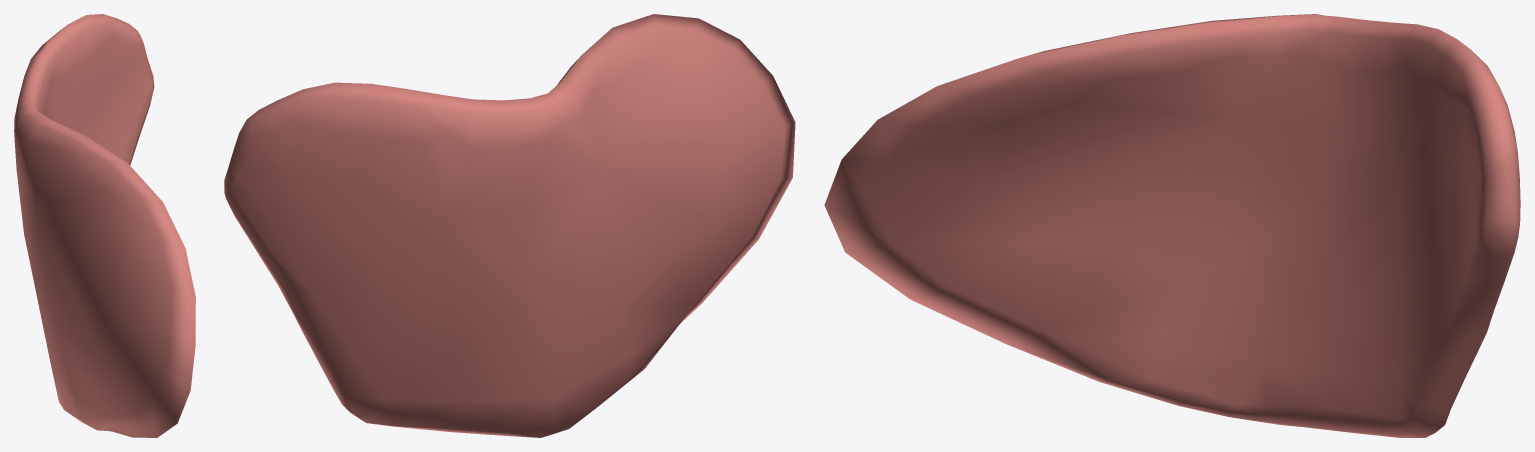
The picture shows the model from 3 angles, left to right: view 1: azimuth 30°, elevation 25°; view 2: azimuth 150°, elevation 25°; view 3: azimuth 270°, elevation 25°; orthographic projection. The views are drawn at different scales.
Parts seen in each view (by area): view 1: ZA_ecb4a8461a0d2cef; view 2: ZA_ecb4a8461a0d2cef; view 3: ZA_ecb4a8461a0d2cef.
Part boxes in pixels (box(x1,y1,x2,y2)): ZA_ecb4a8461a0d2cef: box(14, 14, 195, 437); ZA_ecb4a8461a0d2cef: box(224, 14, 795, 437); ZA_ecb4a8461a0d2cef: box(824, 14, 1520, 437).
Size of the model in its own units: 0.00418 by 0.00573 by 0.00838.
